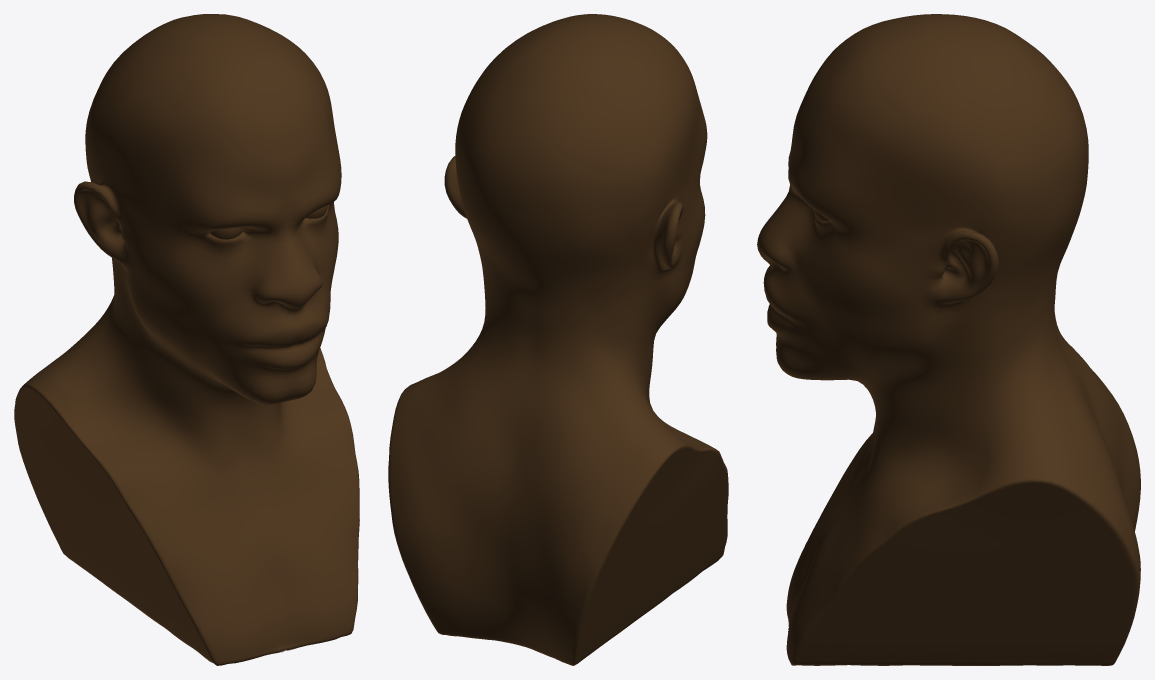
The model's file is african.glb.
The picture shows the model from 3 angles, left to right: view 1: azimuth 30°, elevation 25°; view 2: azimuth 150°, elevation 25°; view 3: azimuth 270°, elevation 25°; orthographic projection. The views are drawn at different scales.
Visible parts, largest first — view 1: Object_4; view 2: Object_4; view 3: Object_4.
Boxes of the visible parts, bbox=[...] form: Object_4: bbox=[14, 14, 359, 665]; Object_4: bbox=[388, 14, 728, 665]; Object_4: bbox=[757, 14, 1140, 665].
Bounding box in the file's own units: 0.2402 × 0.4828 × 0.2766.
